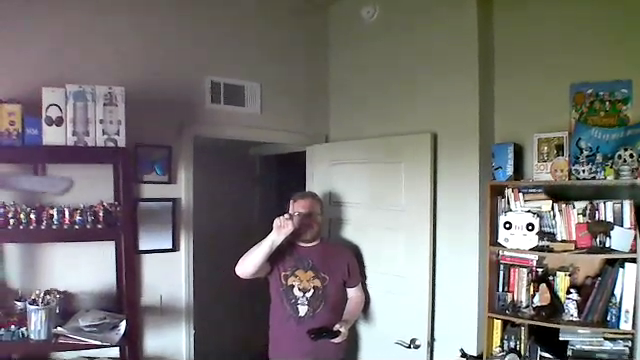up: (266, 197, 302, 243)
